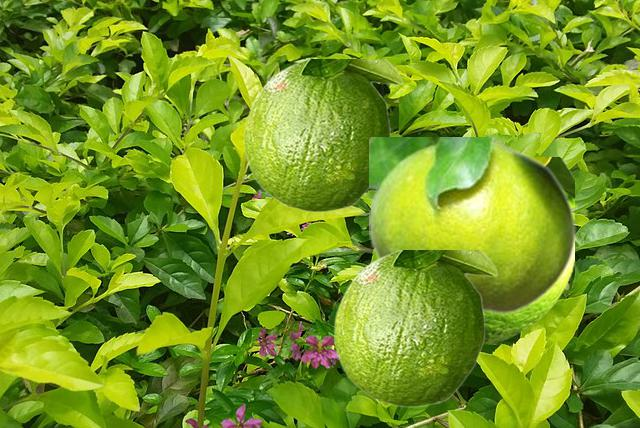dalandan: (369, 137, 576, 314), (333, 250, 497, 406), (243, 59, 402, 211), (485, 157, 573, 343)
